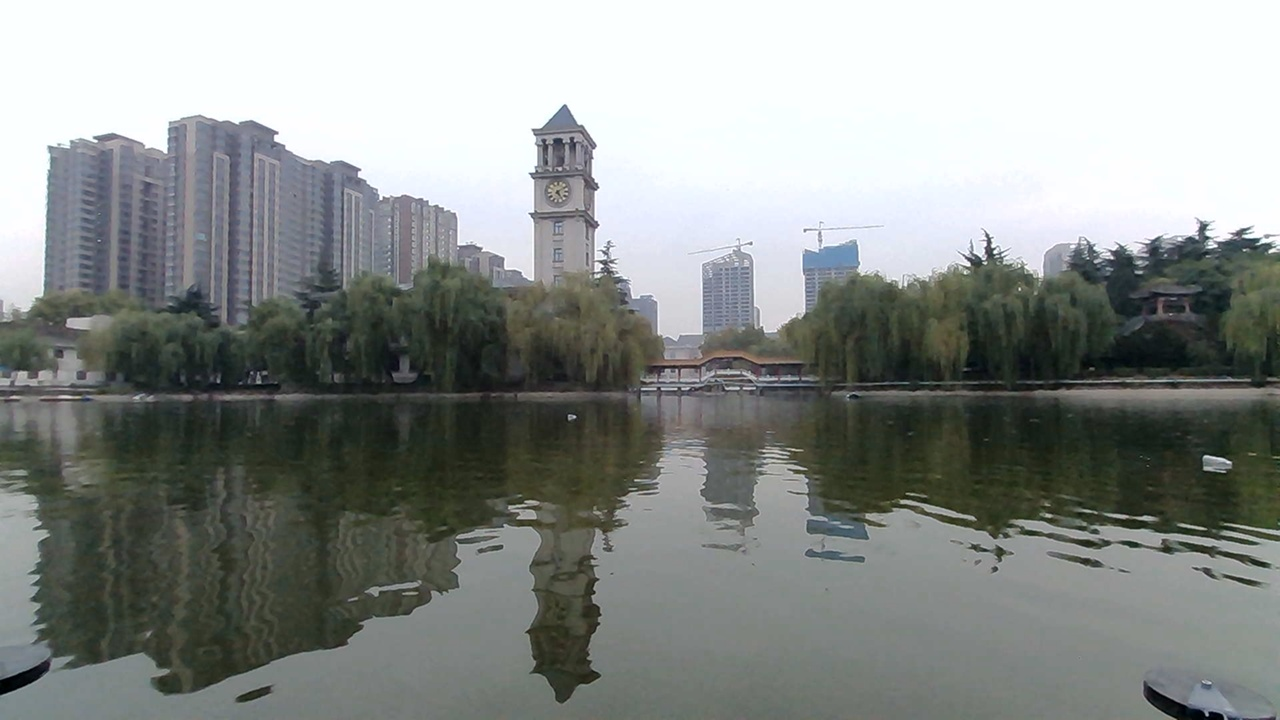bottle: (1199, 453, 1231, 474), (566, 402, 597, 423)
